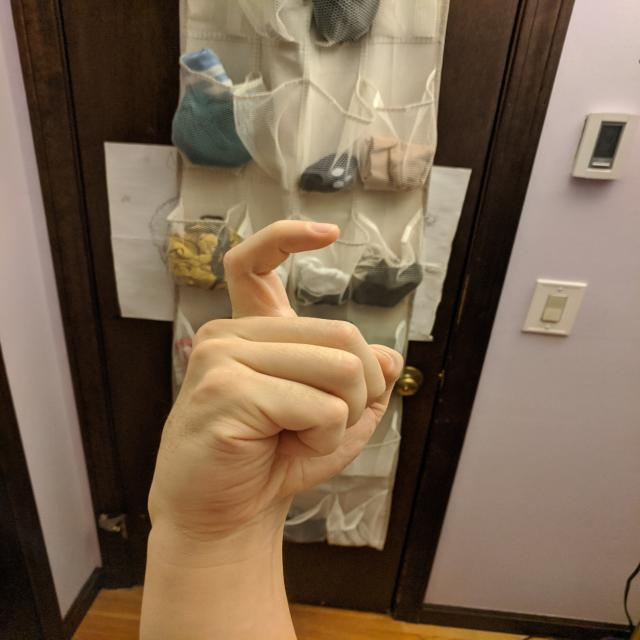X: (129, 213, 417, 529)
